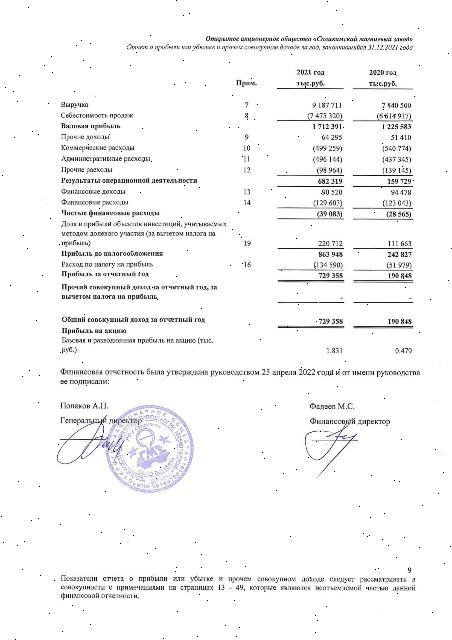stamp: (110, 407, 192, 493)
